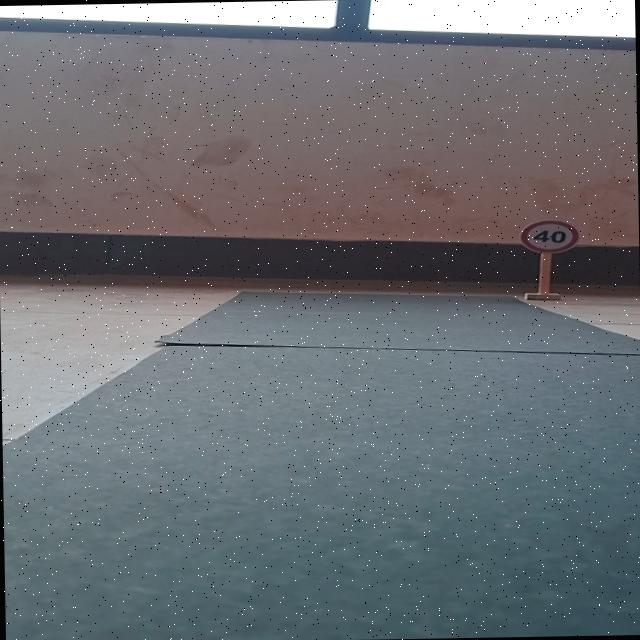Speed40: (519, 217, 586, 259)
